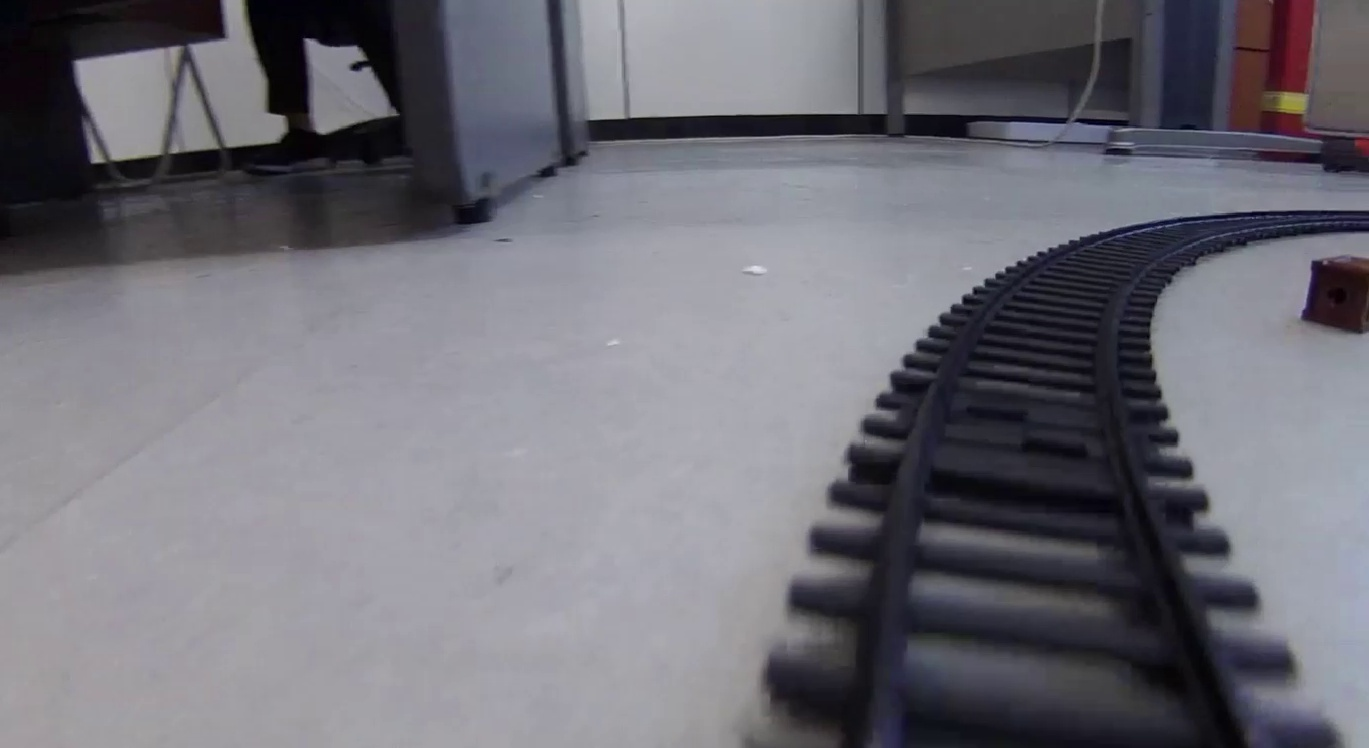box: (1306, 252, 1369, 329)
